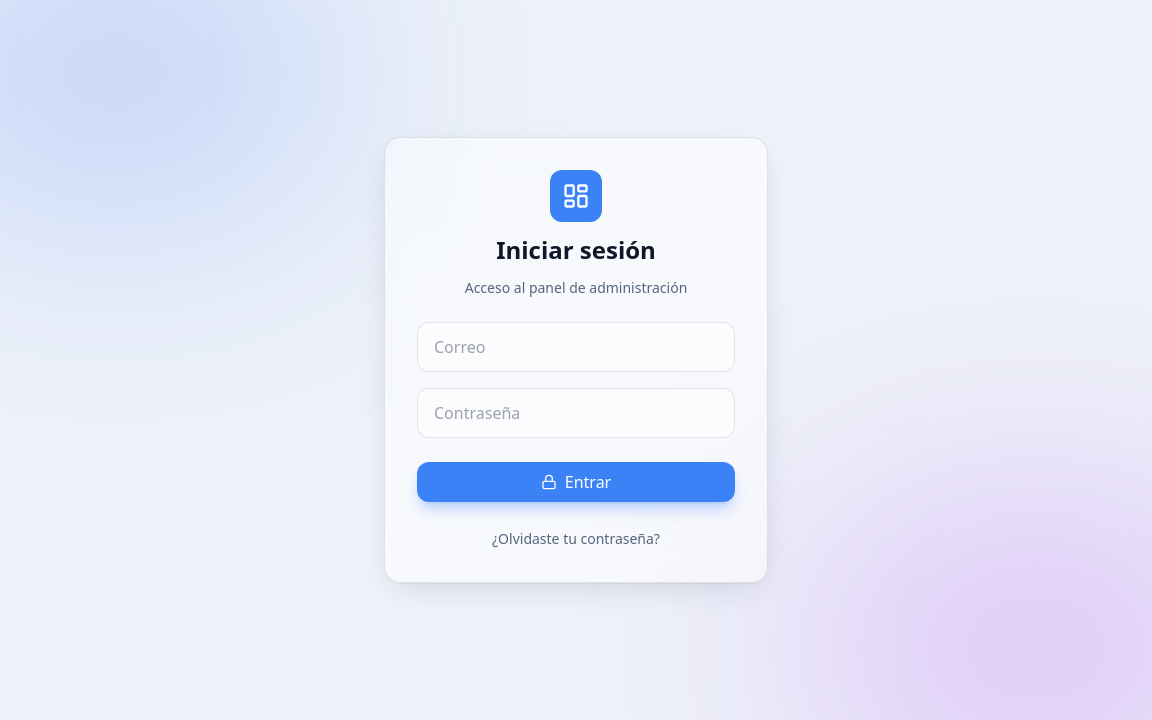
Test: Login › recuperar contraseña: exige correo y confirma envío
Click the button "¿Olvidaste tu contraseña?" at (576, 539), box [417, 529, 735, 549]
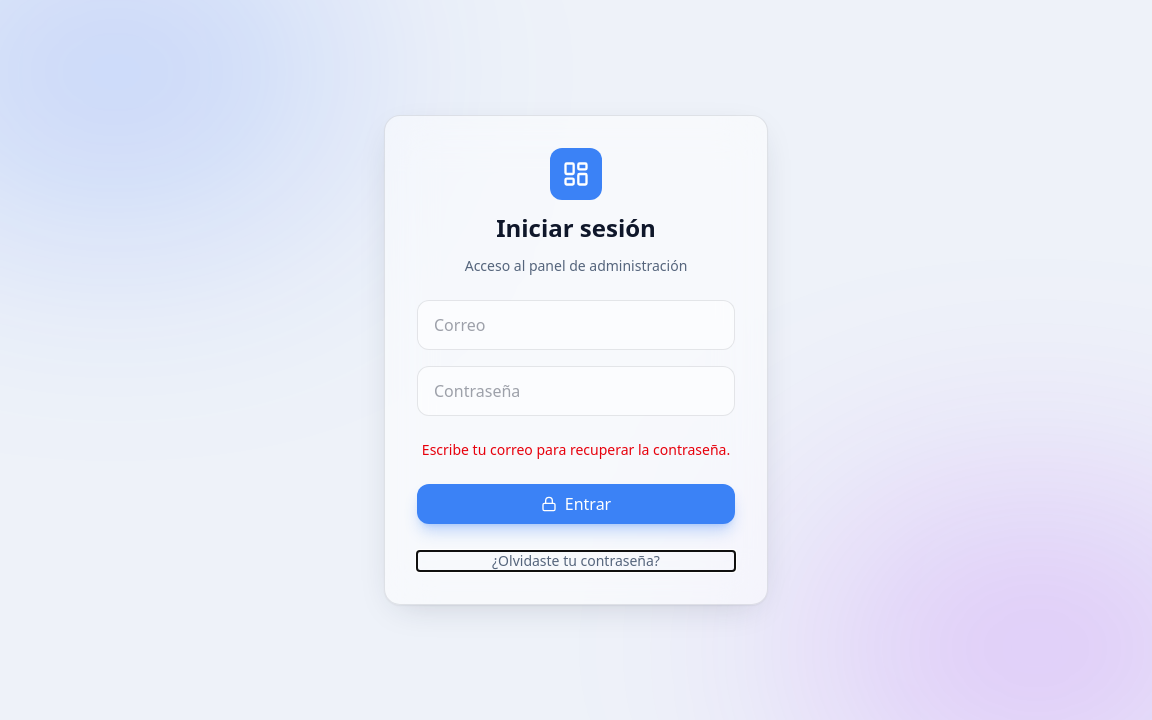
Expected: the text "Escribe tu correo para recuperar la contraseña." is shown, [417, 440, 735, 460]
Type " admin@taller.cl " into the field with placeholder "Correo" at (576, 325), box [417, 300, 735, 350]
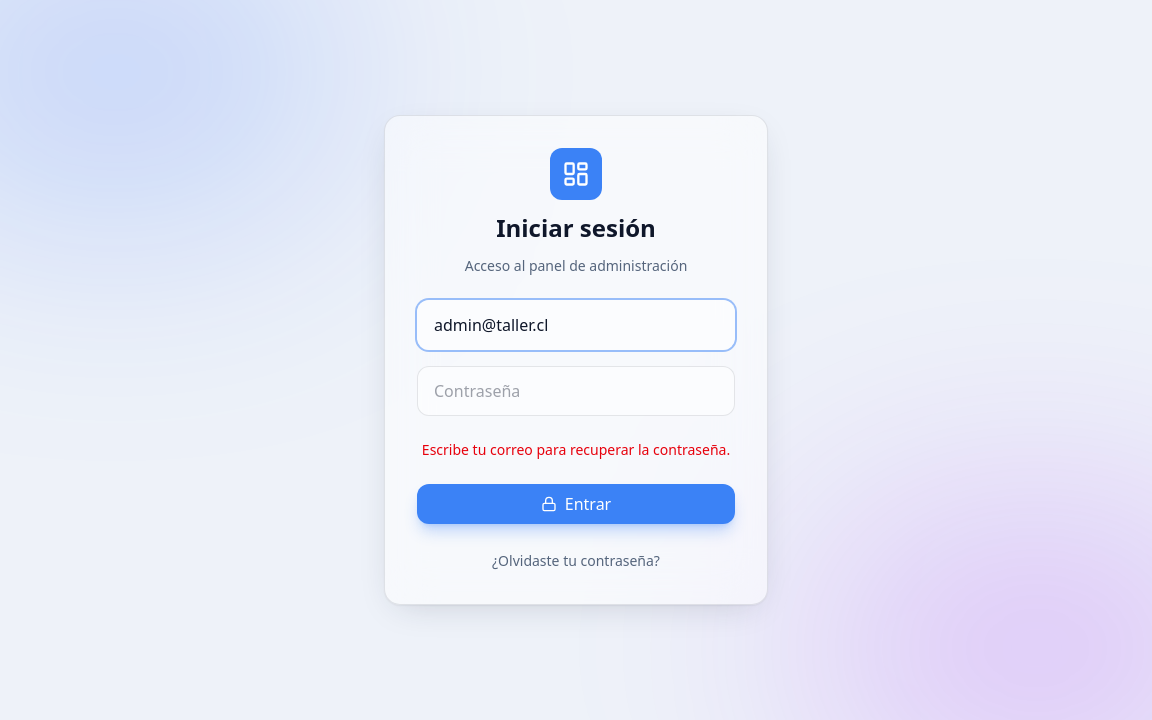
Click the button "¿Olvidaste tu contraseña?" at (576, 561), box [417, 551, 735, 571]
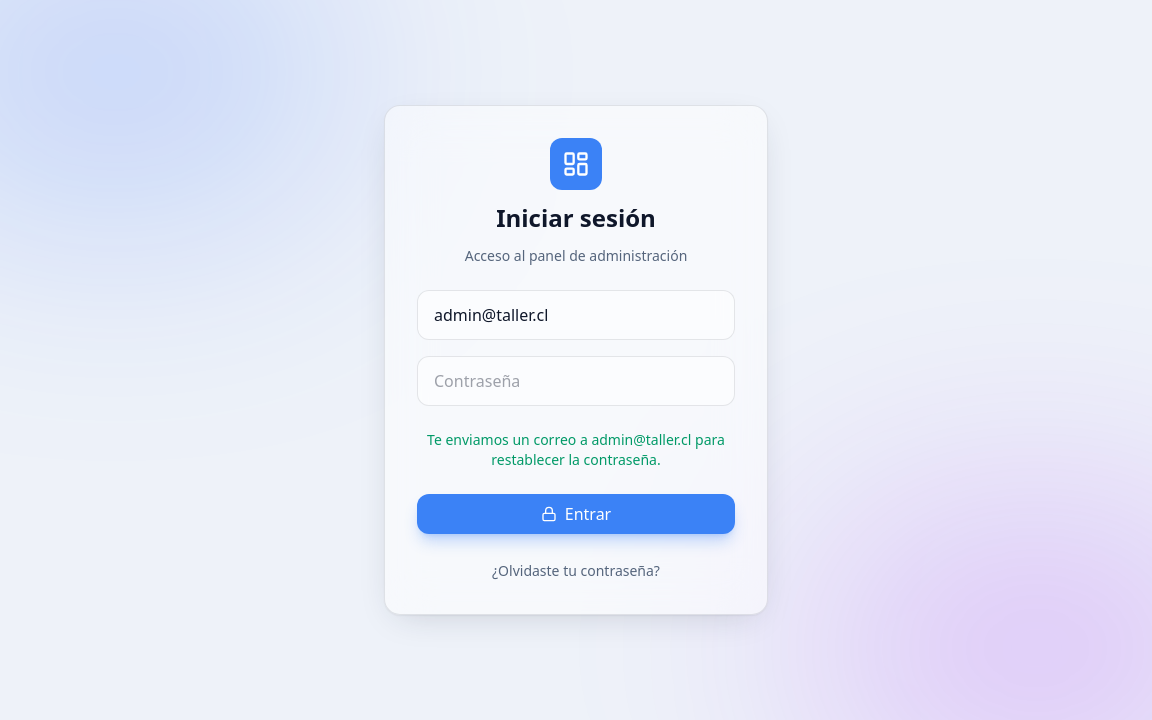
Expected: the text "Te enviamos un correo a admin@taller.cl" is shown, [427, 430, 725, 469]
